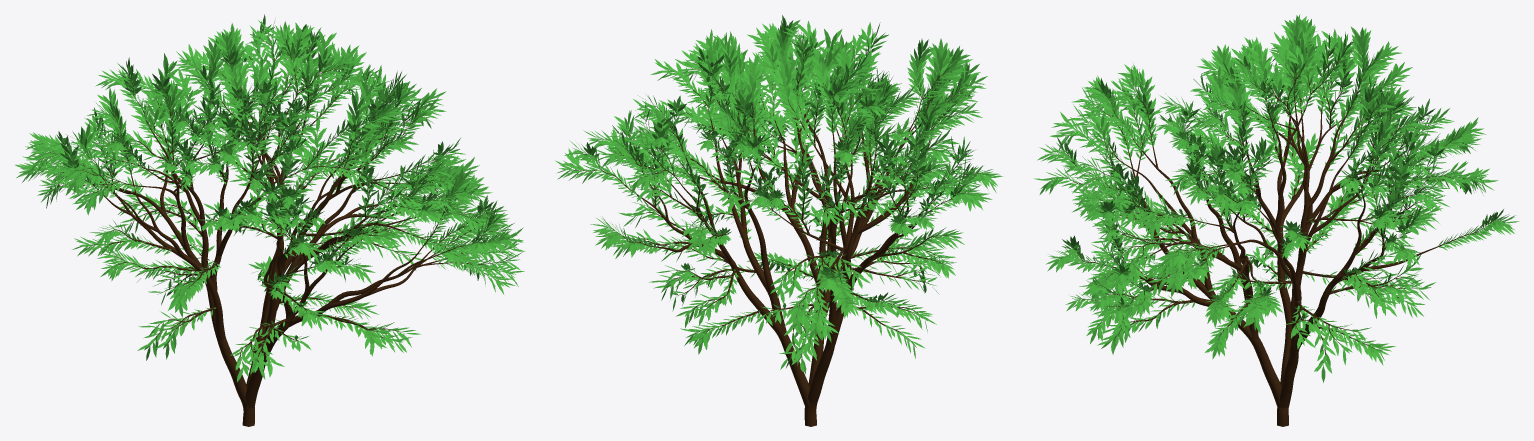
File: wood.fbx
3 views of the same model, side by side, from view 1: azimuth 30°, elevation 25°; view 2: azimuth 150°, elevation 25°; view 3: azimuth 270°, elevation 25° (orthographic).
Parts seen in each view (by area): view 1: leaves, tree; view 2: leaves, tree; view 3: leaves, tree.
Boxes of the visible parts, x1,y1,x2,y2 form: leaves: [15, 14, 525, 381]; tree: [41, 34, 508, 426]; leaves: [555, 15, 1003, 373]; tree: [575, 34, 983, 426]; leaves: [1034, 14, 1519, 382]; tree: [1051, 48, 1495, 426].
Size of the model in its own units: 1042 by 905 by 1088.
